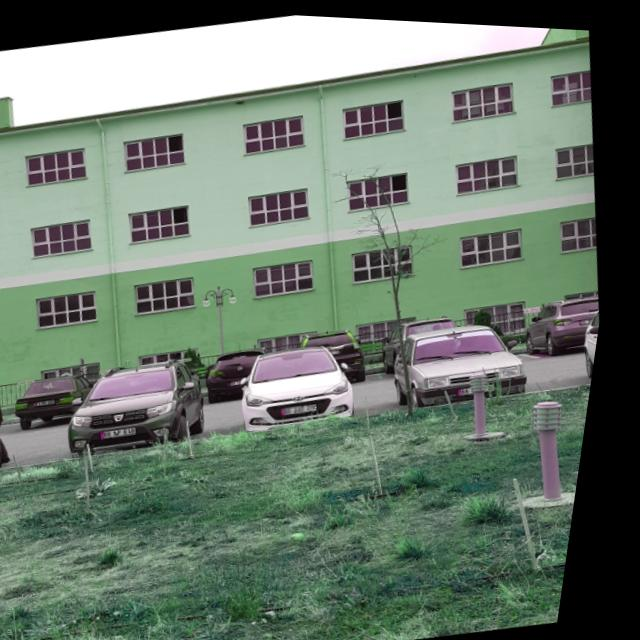license_plate: (291, 399, 329, 412), (113, 424, 149, 437), (45, 398, 67, 407)
